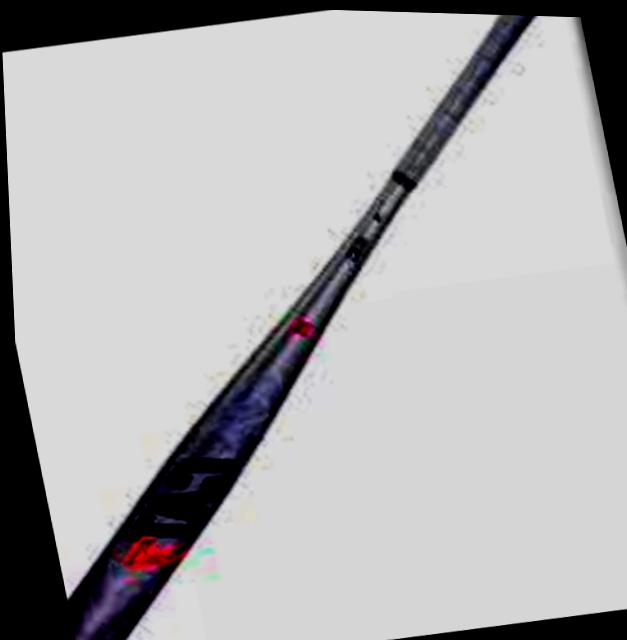baseball bat: (62, 11, 552, 640)
